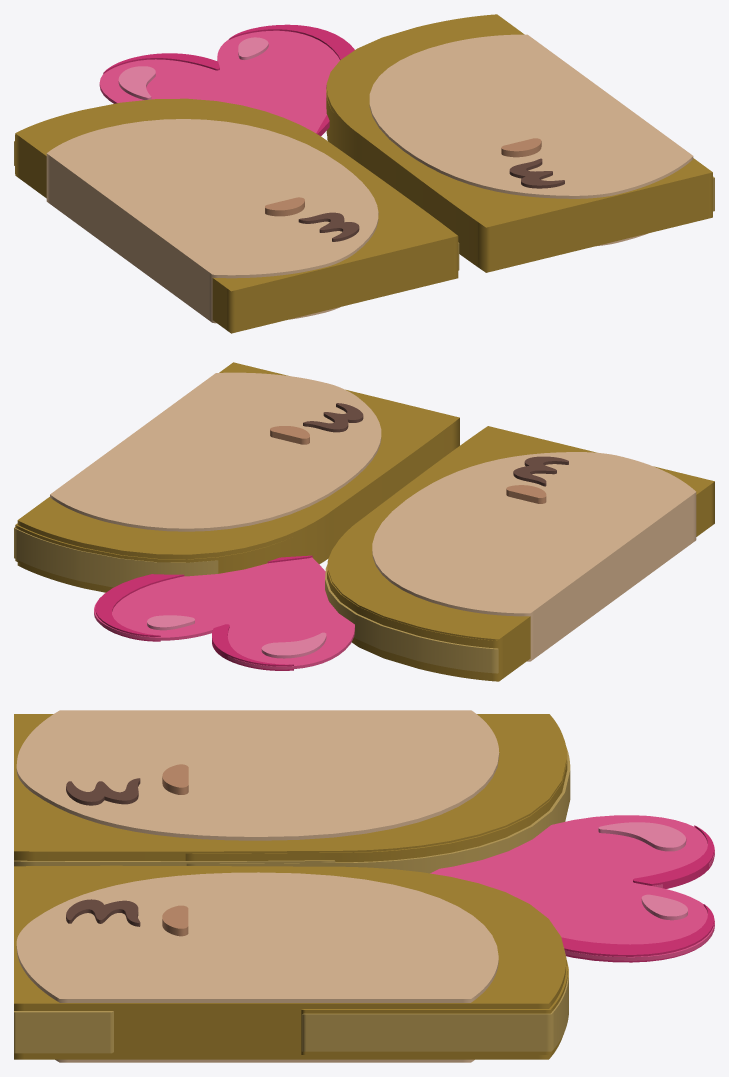
File: emoji_u1f469_1f3fc_200d_2764_200d_1f48b_200d_1f469_1f3fc.glb
3 views of the same model, one above another, from view 1: azimuth 30°, elevation 25°; view 2: azimuth 150°, elevation 25°; view 3: azimuth 270°, elevation 25° (orthographic). The views are drawn at different scales.
Parts seen in each view (by area): view 1: emoji_u1f469_1f3fc_200d_2764_200d_1f48b_200d_1f469_1f3fc; view 2: emoji_u1f469_1f3fc_200d_2764_200d_1f48b_200d_1f469_1f3fc; view 3: emoji_u1f469_1f3fc_200d_2764_200d_1f48b_200d_1f469_1f3fc.
Boxes of the visible parts, x1,y1,x2,y2 form: emoji_u1f469_1f3fc_200d_2764_200d_1f48b_200d_1f469_1f3fc: (14, 14, 714, 333); emoji_u1f469_1f3fc_200d_2764_200d_1f48b_200d_1f469_1f3fc: (14, 362, 714, 681); emoji_u1f469_1f3fc_200d_2764_200d_1f48b_200d_1f469_1f3fc: (14, 710, 714, 1062).
Bounding box in the file's own units: 0.0336 × 0.0042 × 0.0339.
